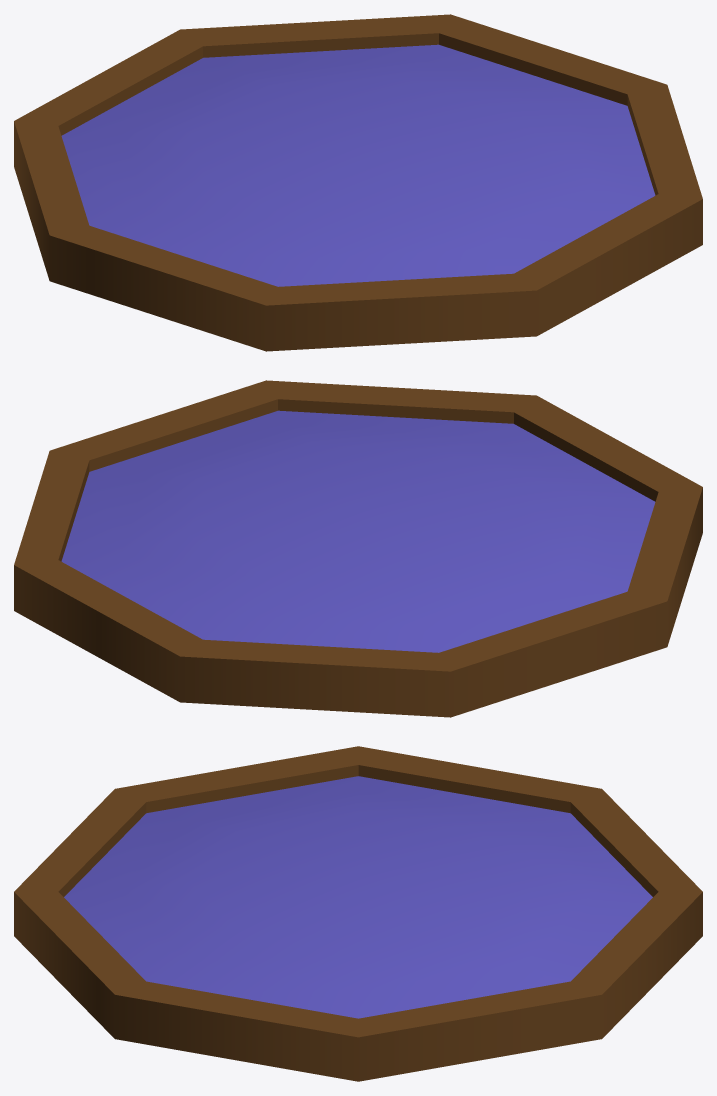
Rendered from medalion2.fbx.
3 views of the same model, one above another, from view 1: azimuth 30°, elevation 25°; view 2: azimuth 150°, elevation 25°; view 3: azimuth 270°, elevation 25° (orthographic). The views are drawn at different scales.
Visible parts, largest first — view 1: medalion; view 2: medalion; view 3: medalion.
Boxes of the visible parts, x1,y1,x2,y2 form: medalion: (14,14,702,351); medalion: (14,380,702,717); medalion: (14,746,702,1081).
Bounding box in the file's own units: 36.75 × 3.53 × 36.75.
